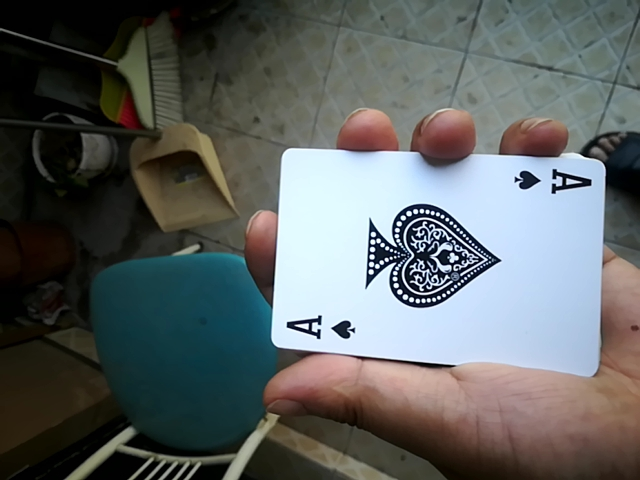ht a: (259, 145, 604, 377)
